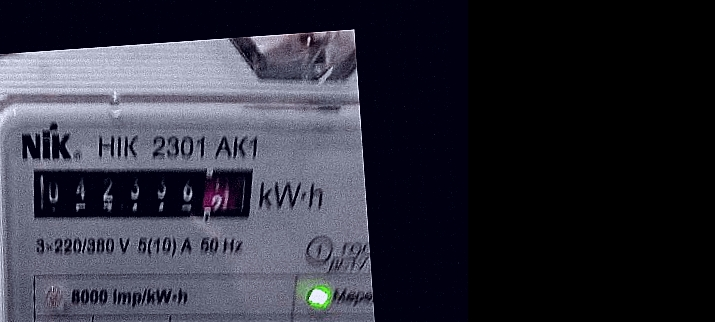0: (45, 175, 60, 205)
2: (97, 173, 116, 201)
3: (124, 171, 142, 201), (153, 170, 168, 199)
4: (71, 174, 88, 202)
6: (178, 174, 195, 202)
screen: (18, 144, 264, 241)
